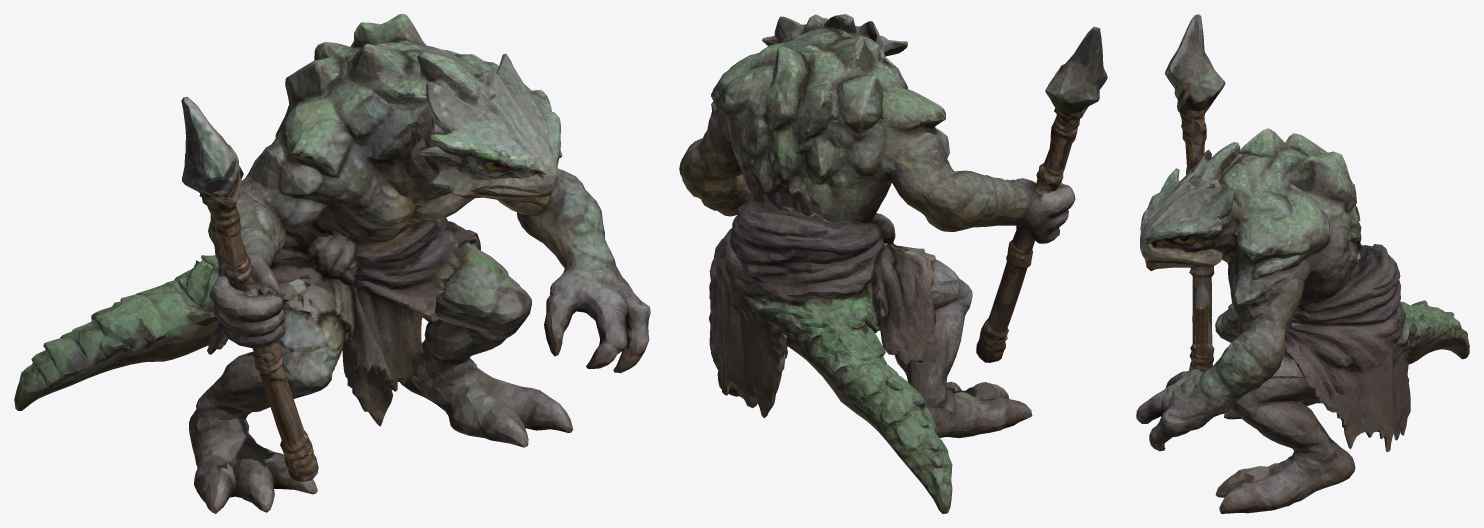
File: foe_zokujin_hunter.glb
3 views of the same model, side by side, from view 1: azimuth 30°, elevation 25°; view 2: azimuth 150°, elevation 25°; view 3: azimuth 270°, elevation 25° (orthographic). The views are drawn at different scales.
Parts seen in each view (by area): view 1: temp_mesh.ply; view 2: temp_mesh.ply; view 3: temp_mesh.ply.
Part boxes in pixels (x1,y1,x2,y2): temp_mesh.ply: [14, 14, 650, 513]; temp_mesh.ply: [679, 14, 1107, 513]; temp_mesh.ply: [1136, 14, 1469, 513].
Size of the model in its own units: 1.97 by 1.89 by 1.62.
1 material, 1 textured.
